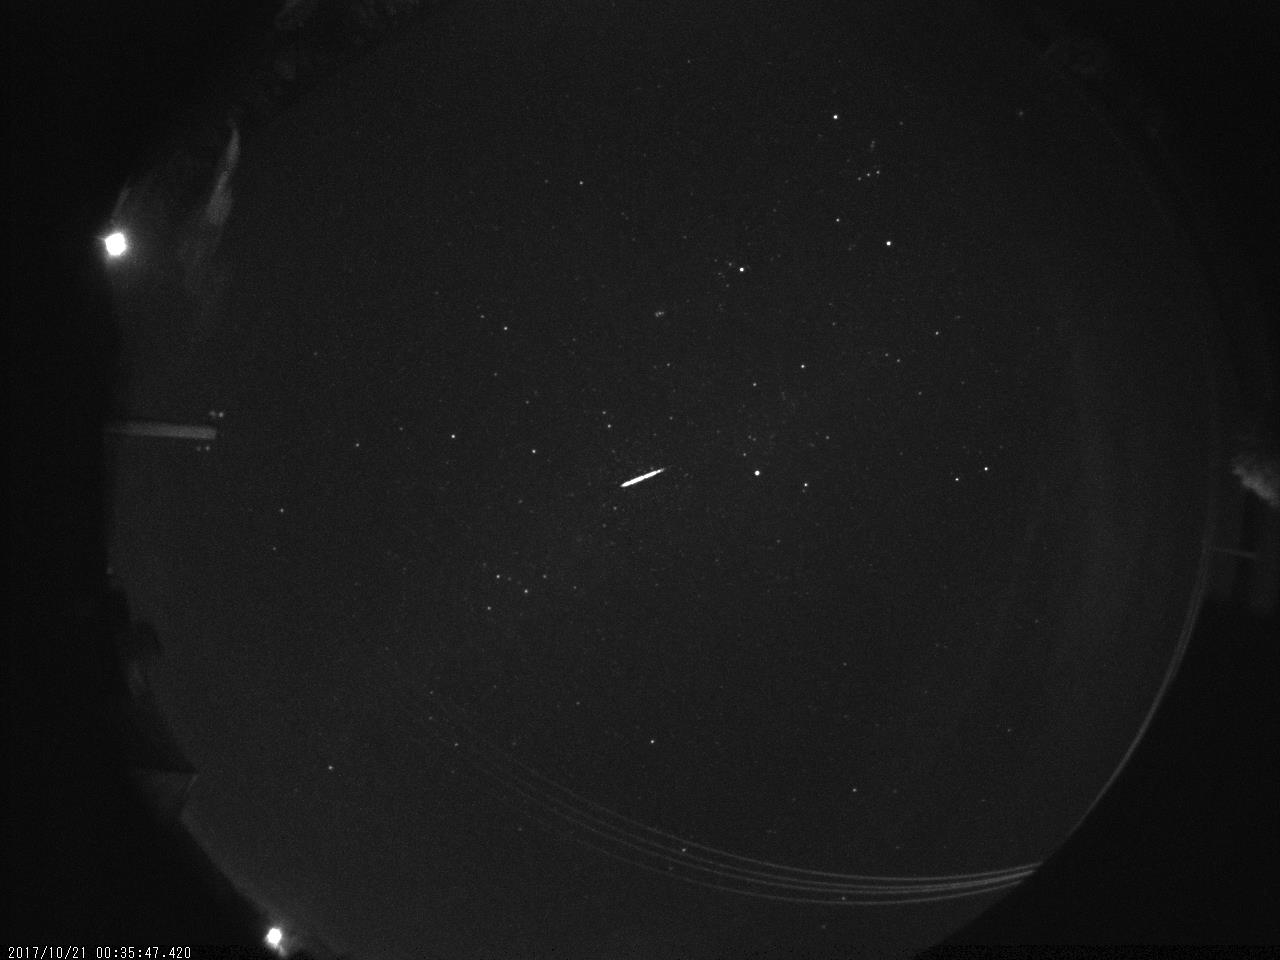meteor: (607, 468, 667, 496)
